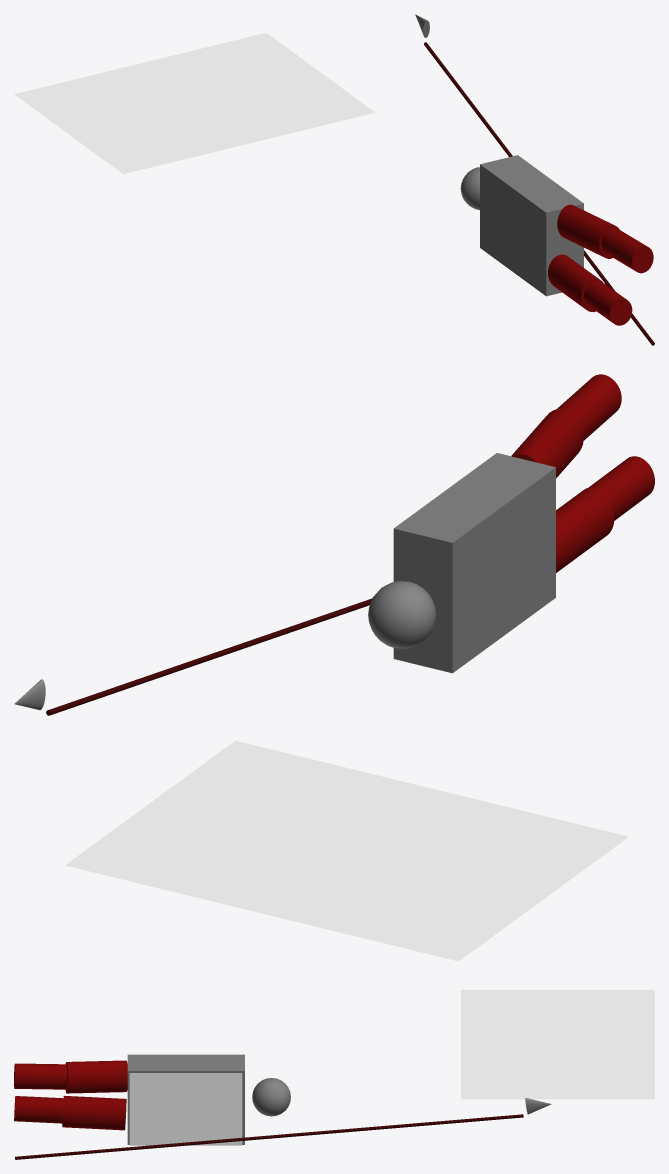
The model's file is pikeman.obj.
3 renders of one model, top to bottom at view 1: azimuth 30°, elevation 25°; view 2: azimuth 150°, elevation 25°; view 3: azimuth 270°, elevation 25°, orthographic. The views are drawn at different scales.
Visible parts, largest first — view 1: "Banner", Default, Default_Upper_right_leg, Default_Upper_left_leg, Default_Lower_right_leg, Default_Lower_left_leg, Default_Spearshaft, Default_Head; view 2: "Banner", Default, Default_Head, Default_Upper_left_leg, Default_Upper_right_leg, Default_Lower_left_leg, Default_Lower_right_leg, Default_Spearshaft; view 3: "Banner", "Tabard", Default, Default_Upper_left_leg, Default_Upper_right_leg, Default_Spearshaft, Default_Lower_right_leg, Default_Lower_left_leg, Default_Head.
Part boxes in pixels (bbox=[...]): "Banner": bbox=[14, 32, 375, 174]; Default: bbox=[480, 155, 583, 296]; Default_Upper_right_leg: bbox=[557, 204, 619, 258]; Default_Upper_left_leg: bbox=[548, 254, 603, 312]; Default_Lower_right_leg: bbox=[601, 227, 653, 273]; Default_Lower_left_leg: bbox=[584, 280, 632, 325]; Default_Spearshaft: bbox=[424, 42, 654, 345]; Default_Head: bbox=[460, 167, 479, 209]; "Banner": bbox=[65, 740, 628, 961]; Default: bbox=[393, 453, 555, 673]; Default_Head: bbox=[368, 581, 436, 648]; Default_Upper_left_leg: bbox=[556, 487, 614, 572]; Default_Upper_right_leg: bbox=[511, 409, 583, 478]; Default_Lower_left_leg: bbox=[588, 456, 654, 520]; Default_Lower_right_leg: bbox=[557, 374, 621, 440]; Default_Spearshaft: bbox=[46, 598, 372, 715]; "Banner": bbox=[461, 990, 654, 1099]; "Tabard": bbox=[129, 1073, 242, 1145]; Default: bbox=[127, 1054, 244, 1144]; Default_Upper_left_leg: bbox=[62, 1095, 126, 1130]; Default_Upper_right_leg: bbox=[65, 1060, 127, 1093]; Default_Spearshaft: bbox=[15, 1114, 523, 1159]; Default_Lower_right_leg: bbox=[14, 1063, 66, 1089]; Default_Lower_left_leg: bbox=[14, 1096, 63, 1123]; Default_Head: bbox=[252, 1078, 290, 1116].
Bounding box in the file's own units: 0.272 × 0.0774 × 0.496.
